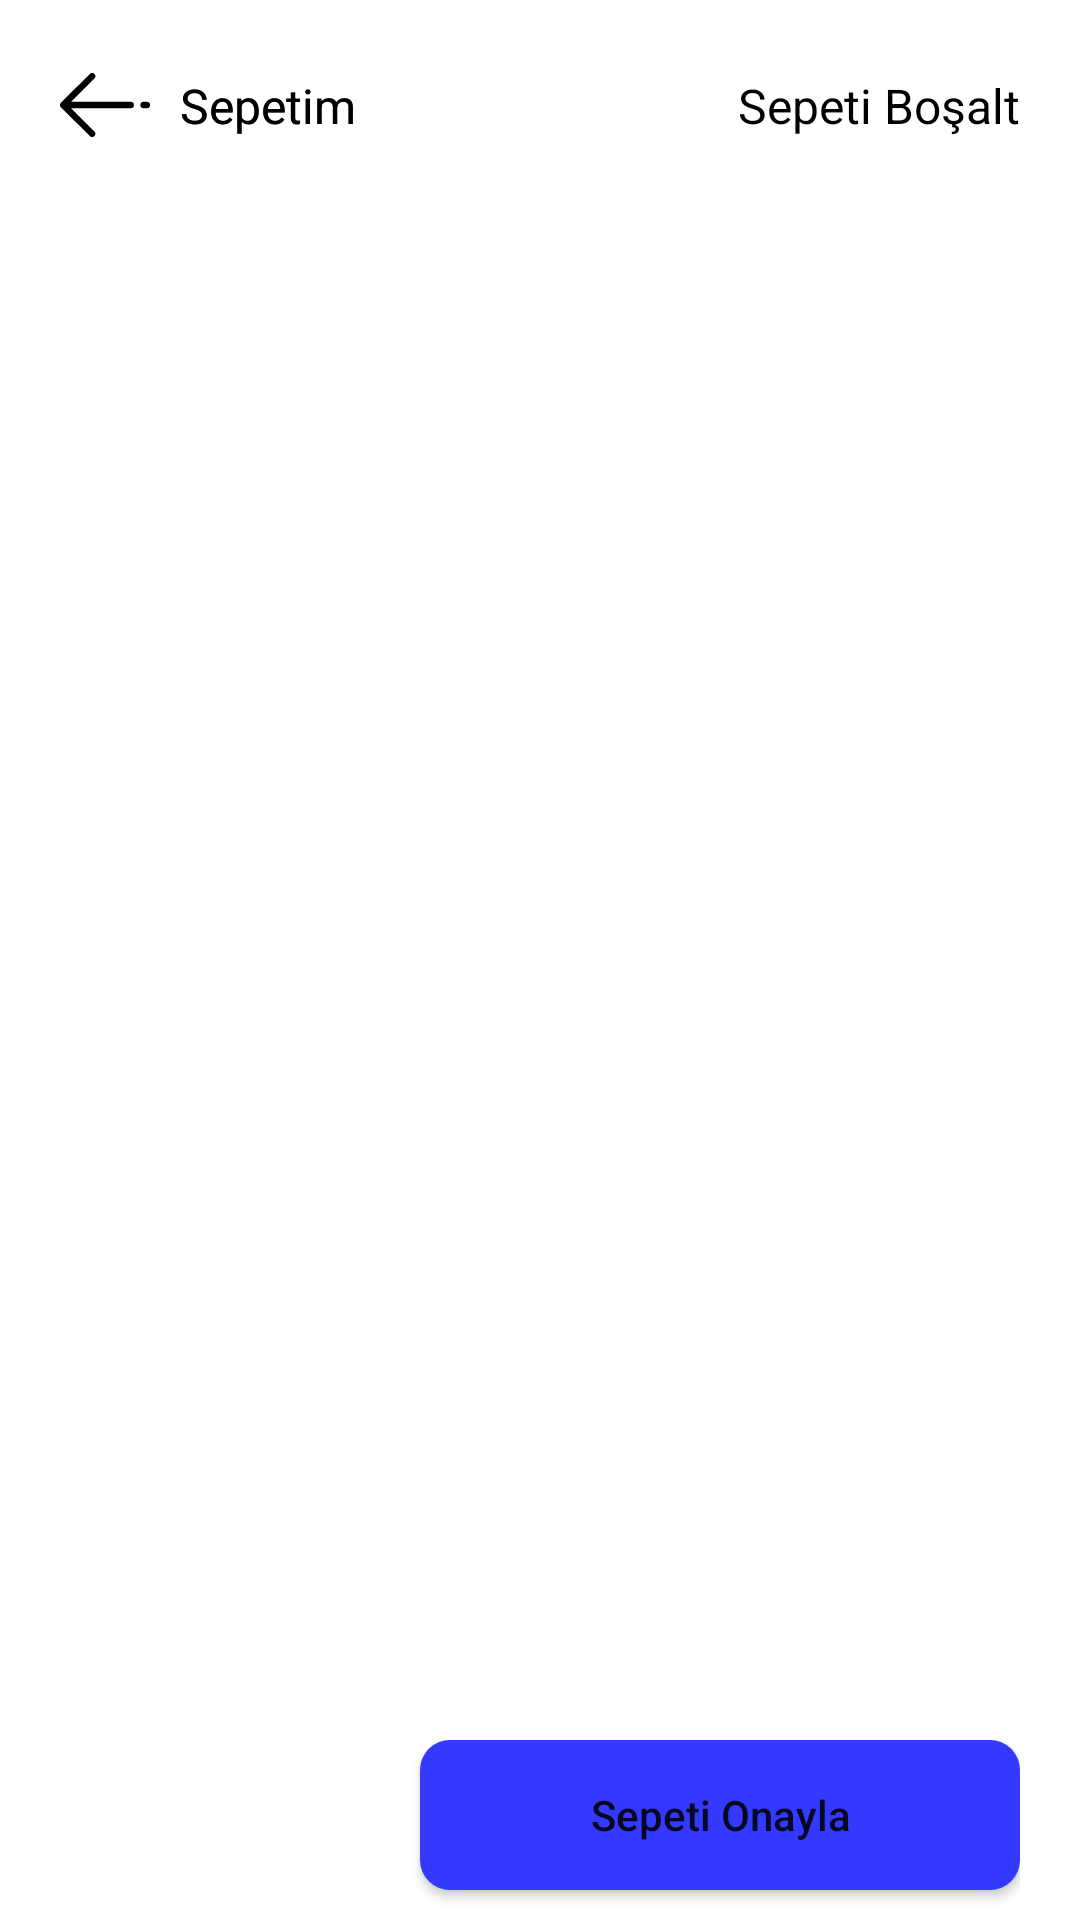

Icon click points for this 1080w x 1920h phone screenshot, format (x,y):
back: (105,105)
